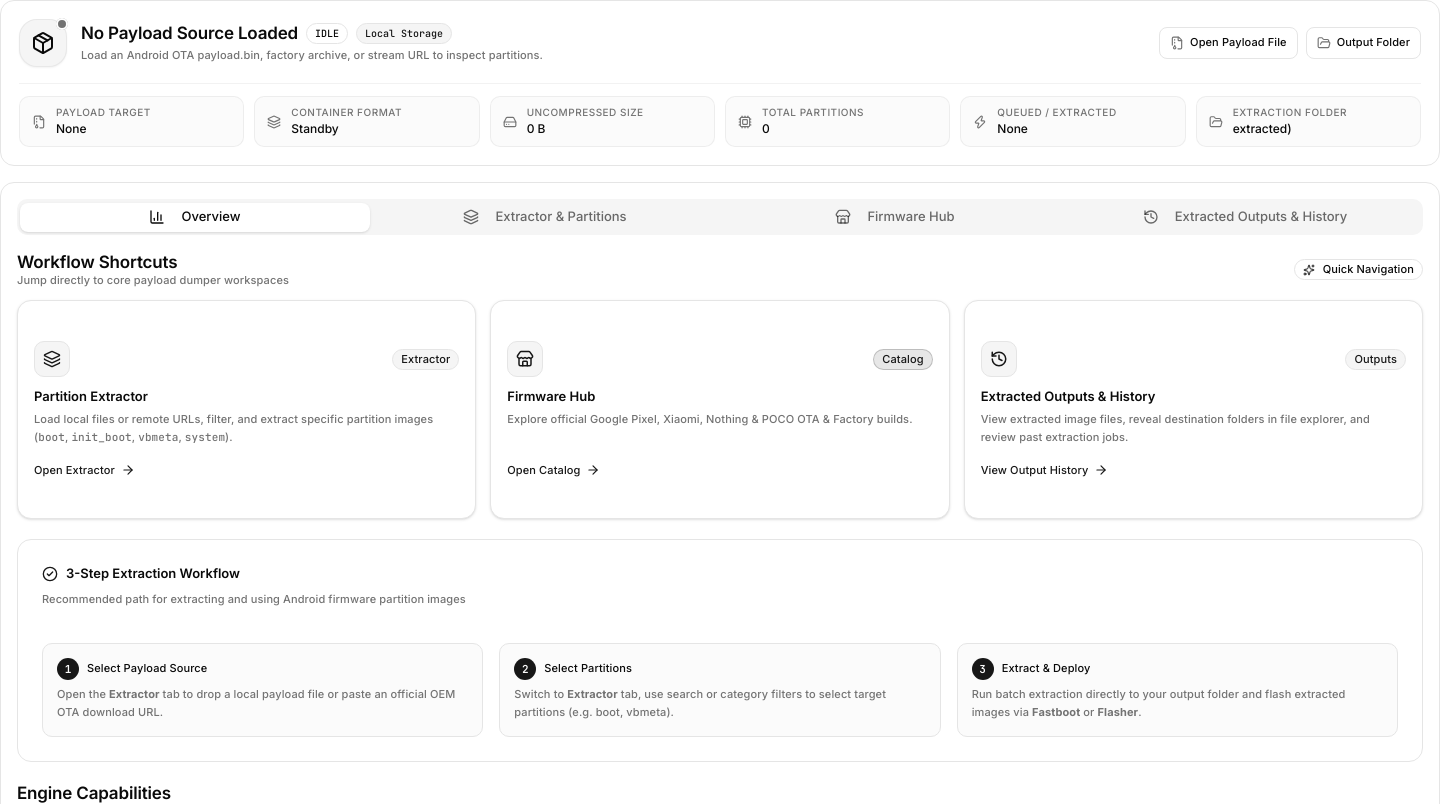
Test case: ViewPayloadDumper › navigates to extractor tab when clicking extractor workflow shortcut card
Click the text "Open Extractor" at point(74, 470), box [34, 463, 115, 478]
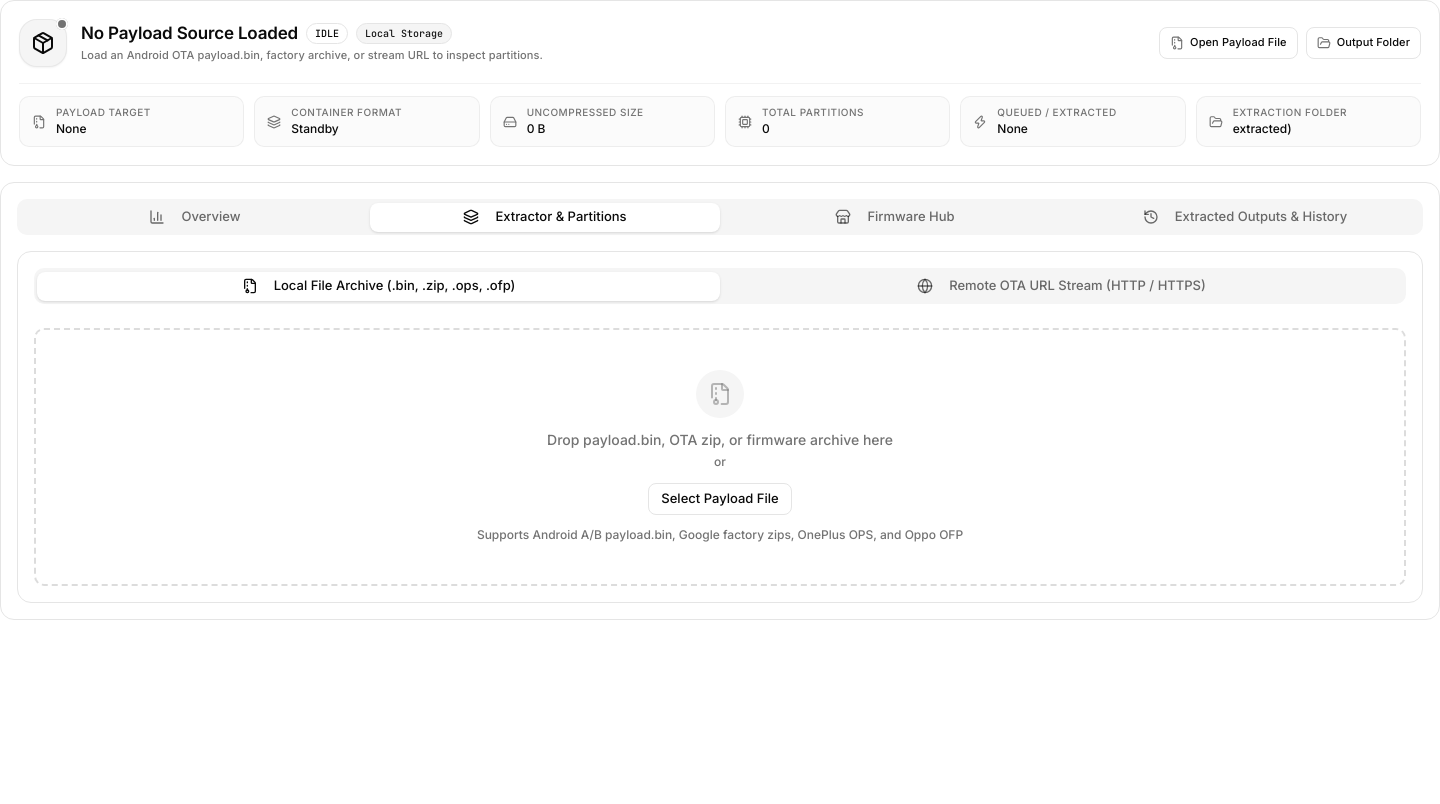
Now the tab "Local File Archive (.bin, .zip, .ops, .ofp)" is shown, box [37, 272, 720, 300]
Now the tab "Remote OTA URL Stream (HTTP / HTTPS)" is shown, box [720, 272, 1403, 300]
